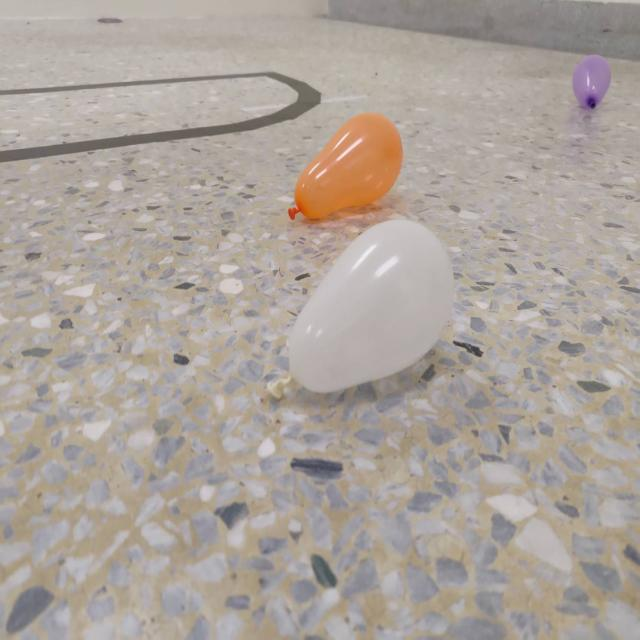other: (267, 217, 454, 406), (288, 110, 403, 221), (572, 52, 611, 110)
